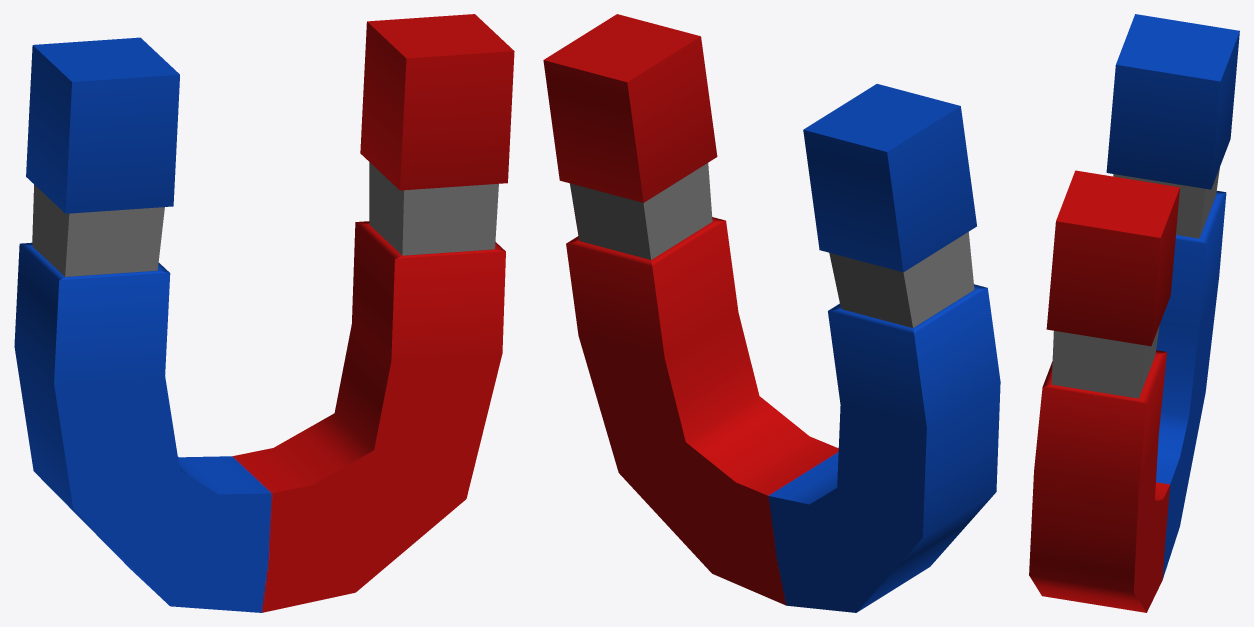
File: MeshAnimator.fbx
3 views of the same model, side by side, from view 1: azimuth 30°, elevation 25°; view 2: azimuth 150°, elevation 25°; view 3: azimuth 270°, elevation 25° (orthographic). The views are drawn at different scales.
Parts seen in each view (by area): view 1: Magnet; view 2: Magnet; view 3: Magnet.
Part boxes in pixels (x1,y1,x2,y2): Magnet: [14, 14, 514, 612]; Magnet: [543, 14, 1000, 612]; Magnet: [1029, 14, 1239, 612].
Size of the model in its own units: 1.17 by 1.36 by 0.5265.
